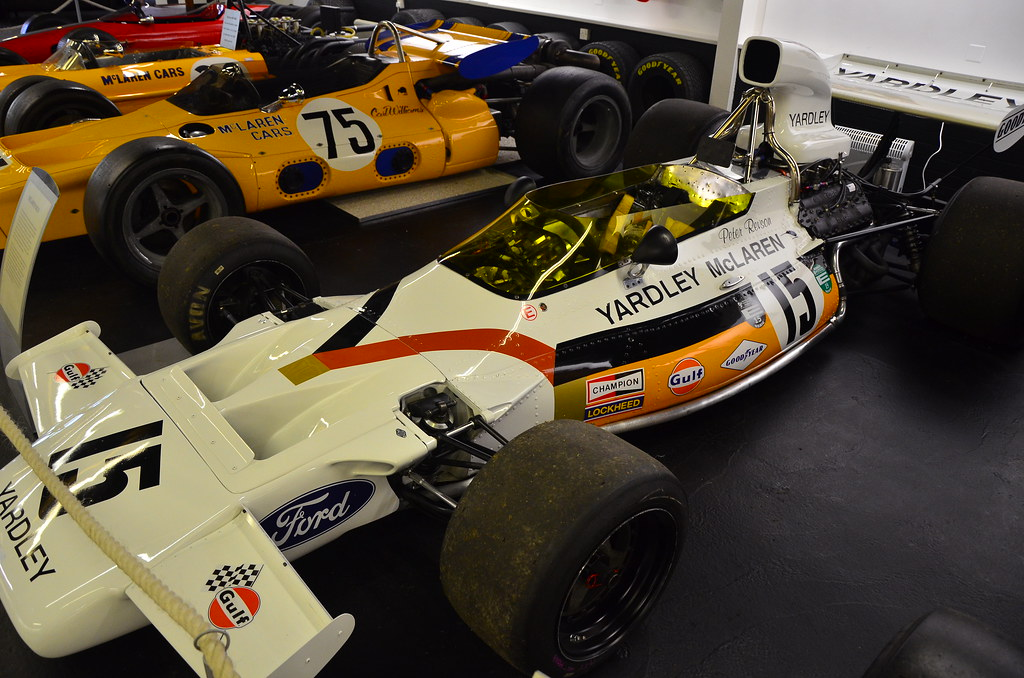f1_car: (2, 29, 1021, 676)
